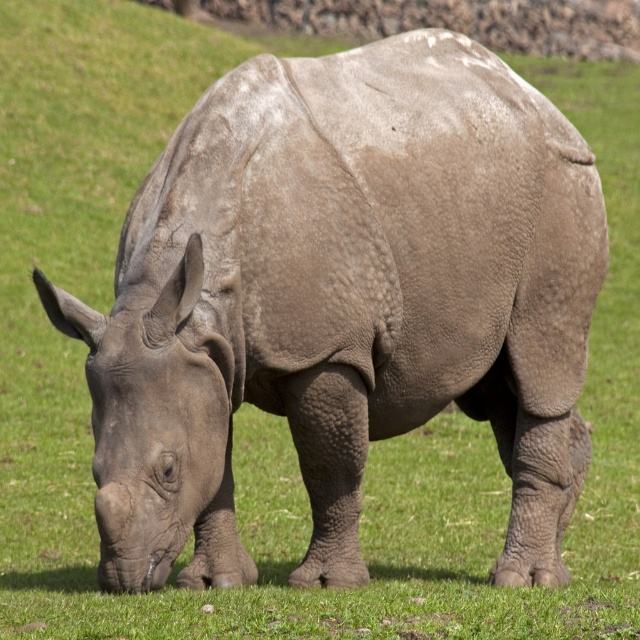Rhinoceros: (31, 29, 609, 595)
